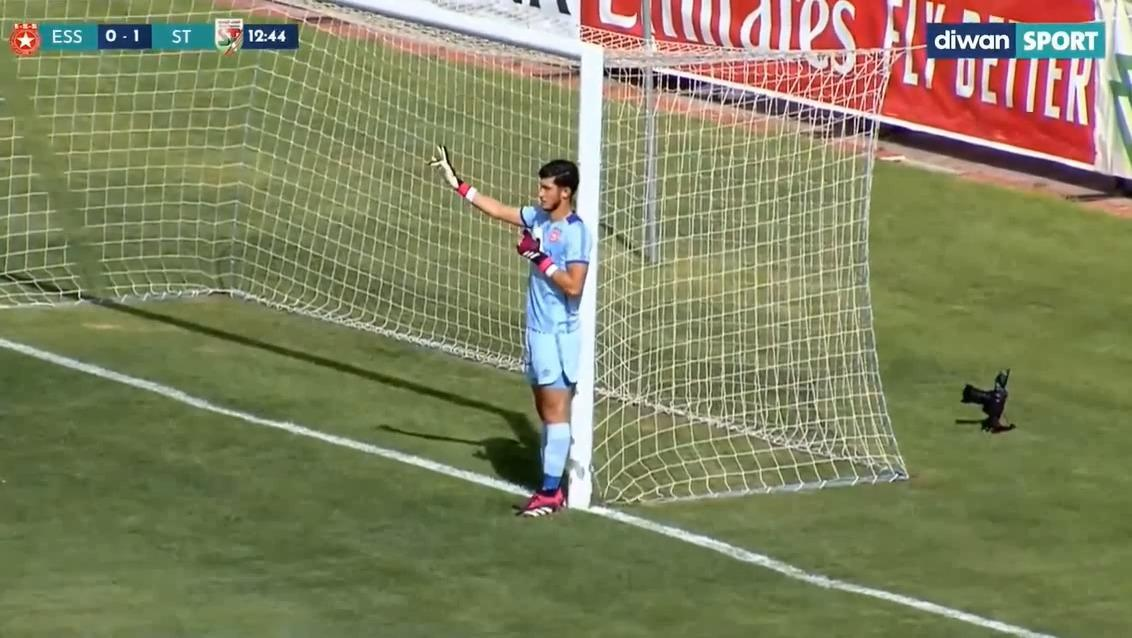goalkeeper: (414, 119, 622, 531)
